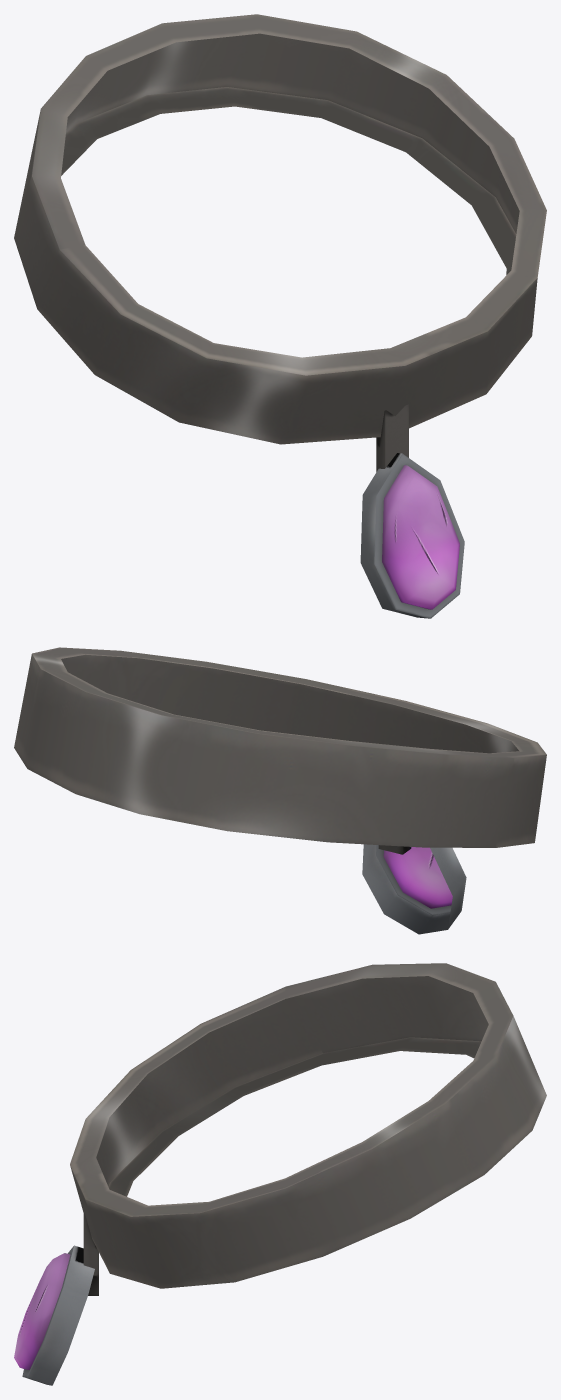
File: greenoutfitneckless.glb
The picture shows the model from 3 angles, top to bottom: view 1: azimuth 30°, elevation 25°; view 2: azimuth 150°, elevation 25°; view 3: azimuth 270°, elevation 25°; orthographic projection. The views are drawn at different scales.
Parts seen in each view (by area): view 1: greenoutfitneckless; view 2: greenoutfitneckless; view 3: greenoutfitneckless.
Part boxes in pixels (x1,y1,x2,y2): greenoutfitneckless: (14, 14, 546, 618); greenoutfitneckless: (14, 647, 546, 934); greenoutfitneckless: (14, 963, 546, 1385).
Bounding box in the file's own units: 0.1282 × 0.1086 × 0.1419.
Materials: 1 (1 with a texture image).
